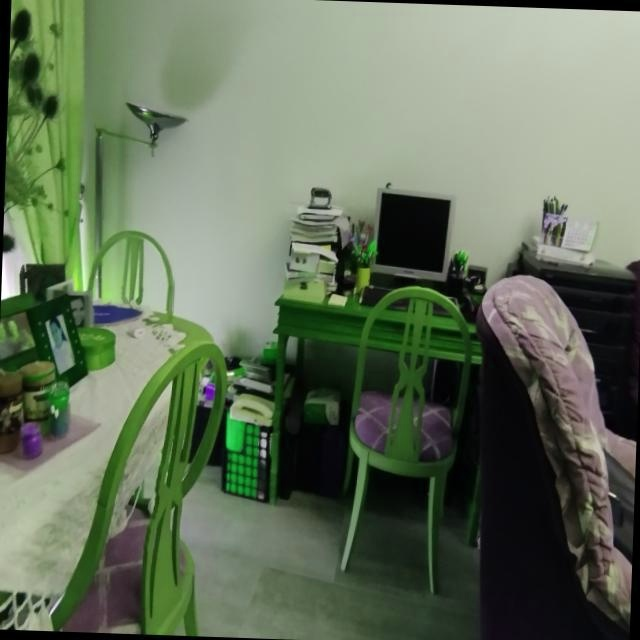chair: (476, 275, 636, 640), (50, 344, 227, 635), (338, 288, 479, 590), (92, 220, 173, 311)
lamp: (125, 103, 187, 154), (95, 129, 104, 253)
monitor: (373, 189, 453, 283)
stove: (0, 311, 211, 631), (268, 299, 370, 506)
